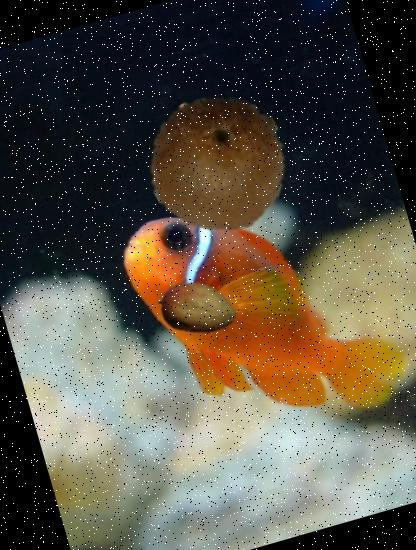Kiwi: (132, 77, 304, 250)
Papaya: (150, 259, 245, 355)
